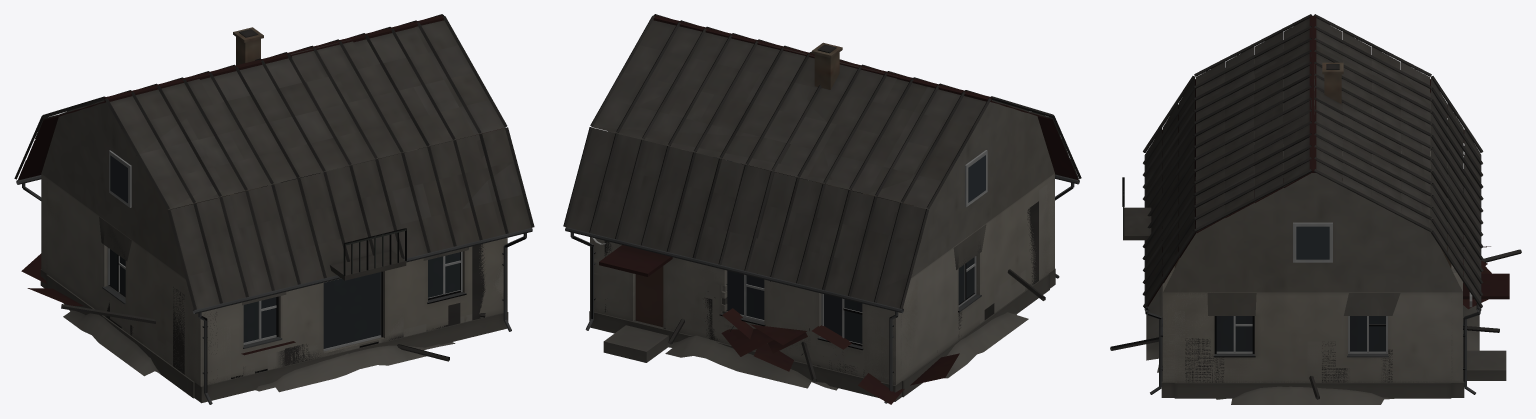
File: ph_mansard.glb
3 views of the same model, side by side, from view 1: azimuth 30°, elevation 25°; view 2: azimuth 150°, elevation 25°; view 3: azimuth 270°, elevation 25° (orthographic). The views are drawn at different scales.
Visible parts, largest first — view 1: mansard_s0, mansard_s1f, mansard_sruin, mansard_s2, mansard_s1g; view 2: mansard_s0, mansard_s1f, mansard_s1g, mansard_s2, mansard_sruin; view 3: mansard_s0, mansard_s1f, mansard_sruin, mansard_s2, mansard_s1g.
Part boxes in pixels (bbox=[...]): mansard_s0: bbox=[16, 15, 532, 404]; mansard_s1f: bbox=[14, 14, 534, 392]; mansard_sruin: bbox=[21, 162, 507, 392]; mansard_s2: bbox=[17, 45, 522, 302]; mansard_s1g: bbox=[23, 80, 492, 224]; mansard_s0: bbox=[565, 15, 1079, 403]; mansard_s1f: bbox=[563, 14, 1081, 378]; mansard_s1g: bbox=[577, 34, 986, 318]; mansard_s2: bbox=[566, 20, 1048, 384]; mansard_sruin: bbox=[590, 181, 1054, 404]; mansard_s0: bbox=[1122, 15, 1509, 398]; mansard_s1f: bbox=[1125, 14, 1483, 394]; mansard_sruin: bbox=[1110, 162, 1521, 404]; mansard_s2: bbox=[1145, 47, 1480, 382]; mansard_s1g: bbox=[1151, 18, 1447, 393].
Bounding box in the file's own units: 13.1 × 8.4 × 12.36.
1 material, 1 textured.
